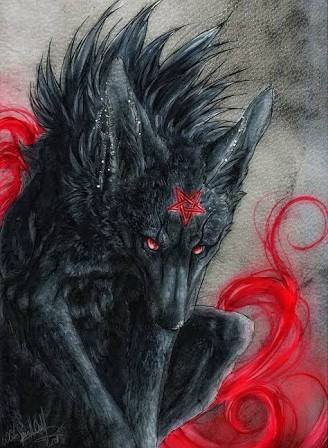Lobo: (60, 66, 290, 381)
